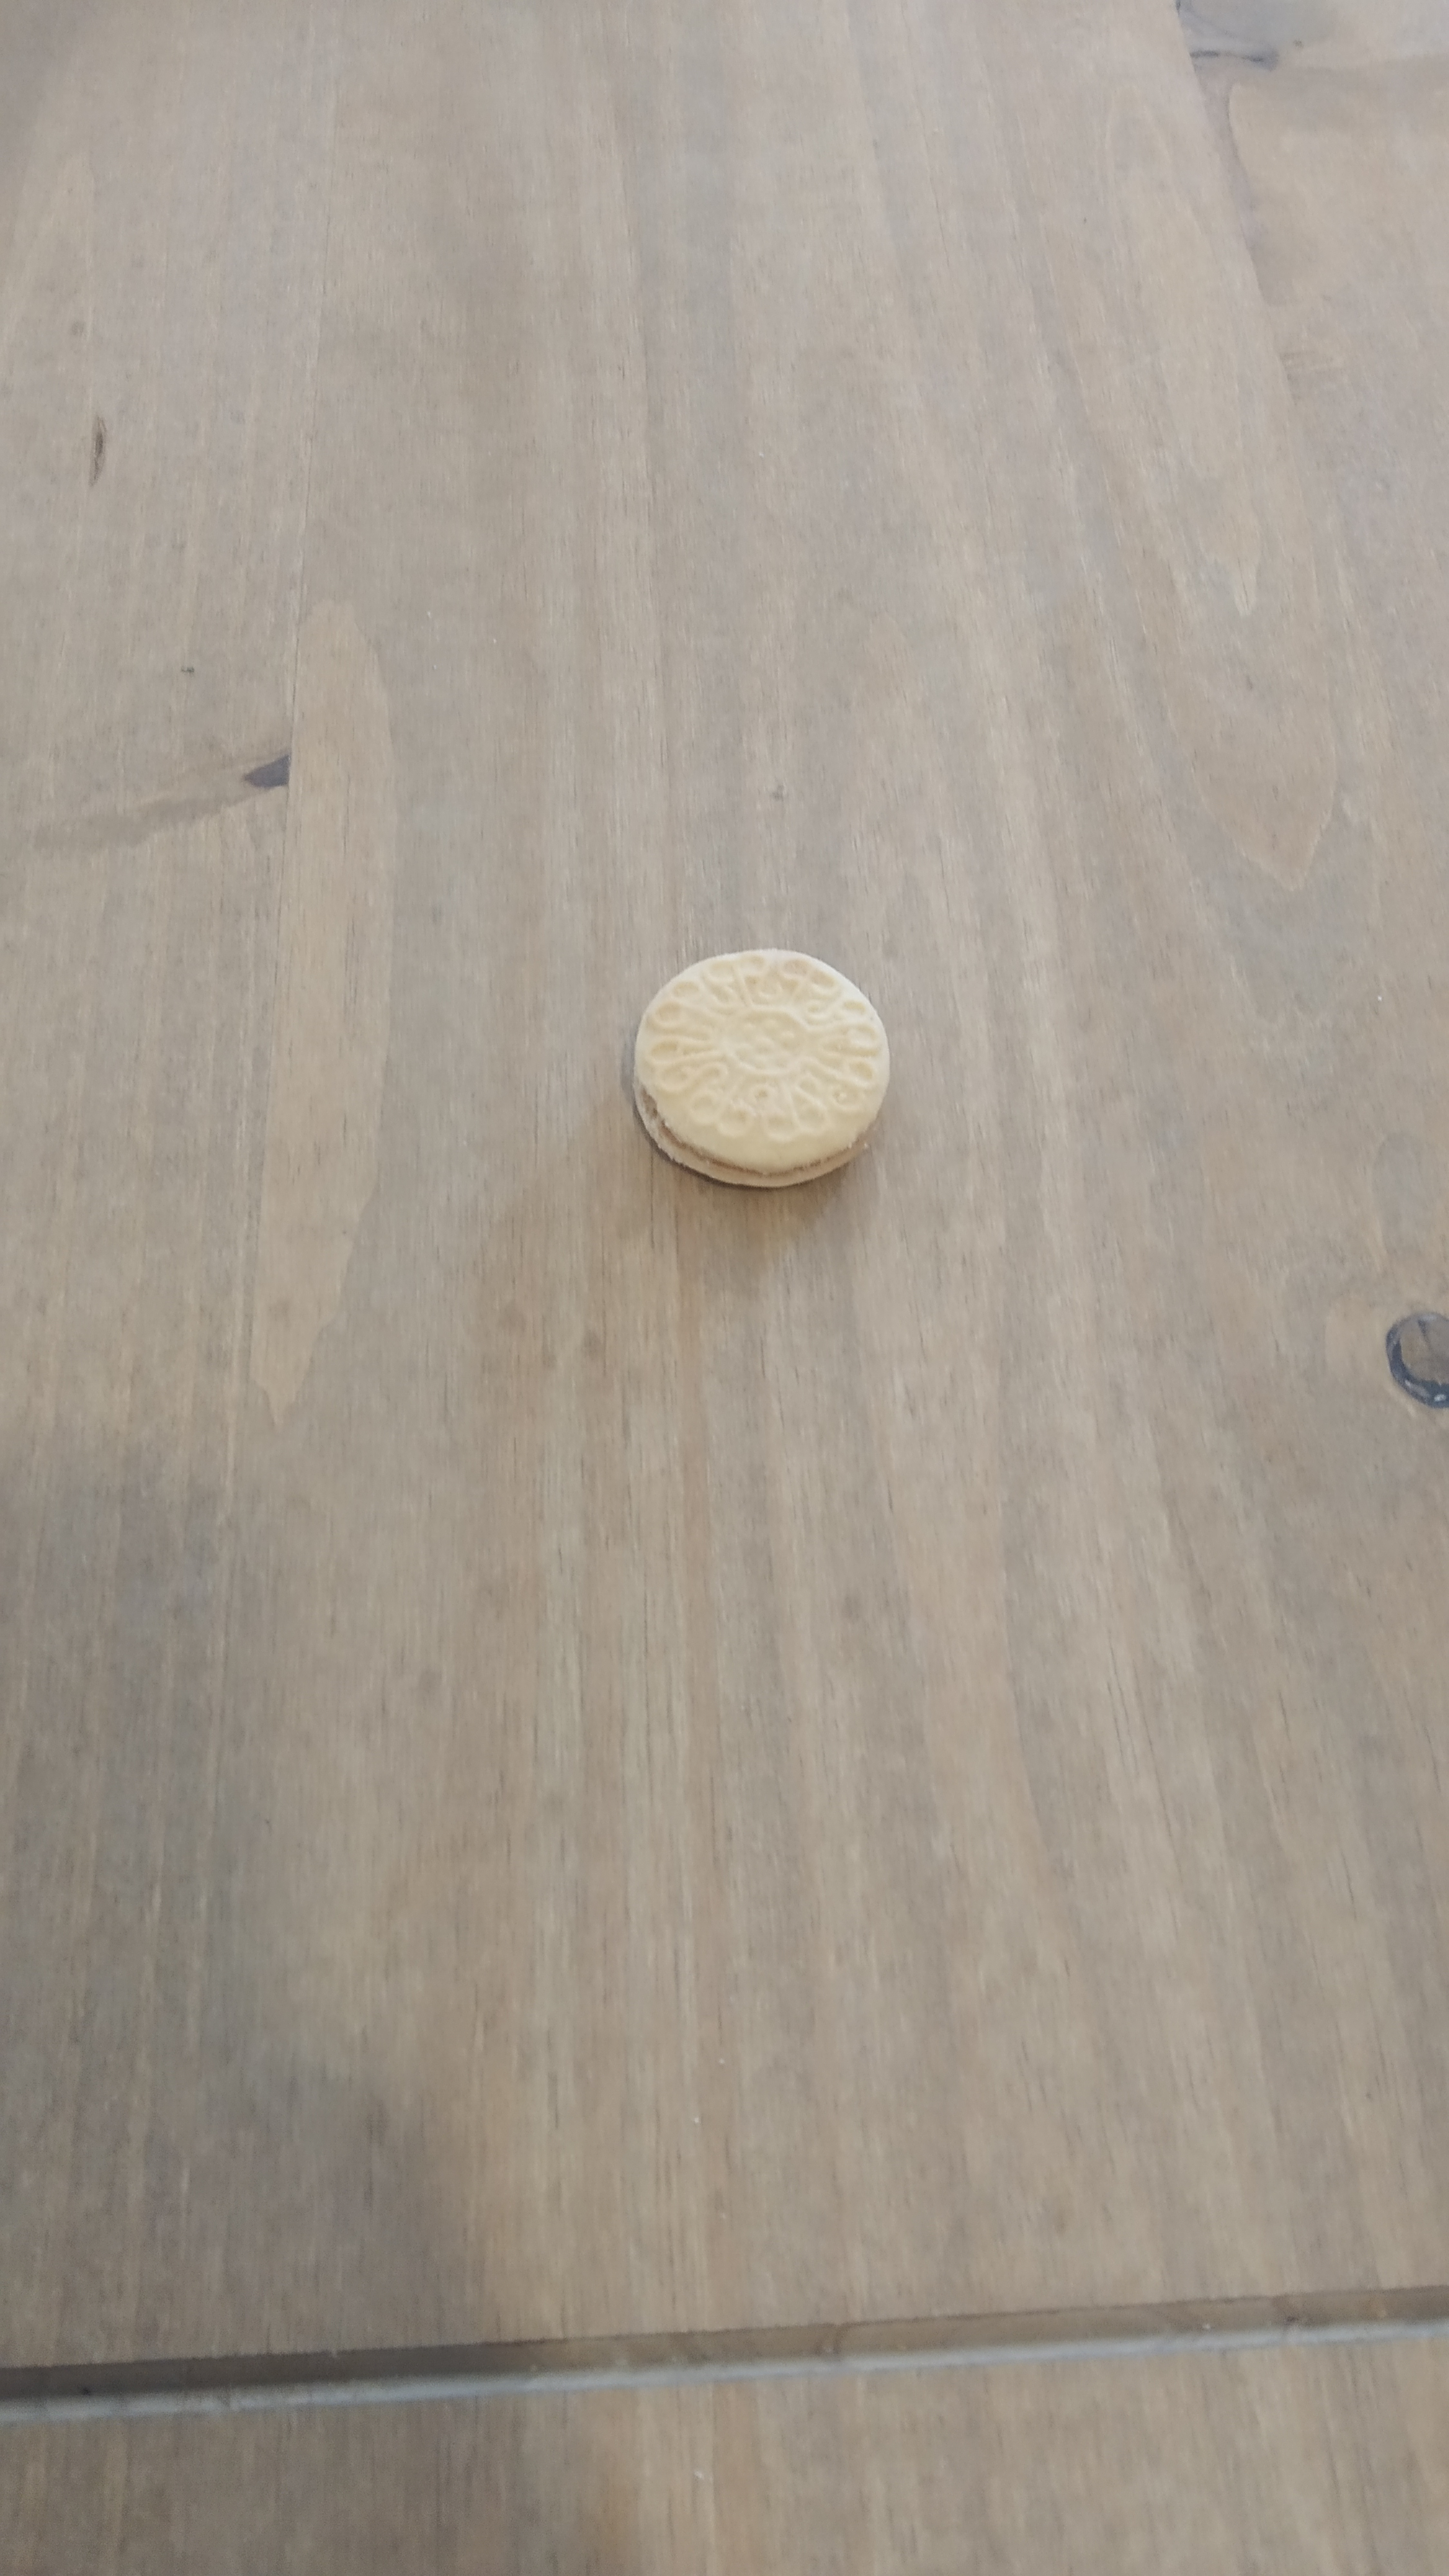lulu: (630, 947, 890, 1191)
